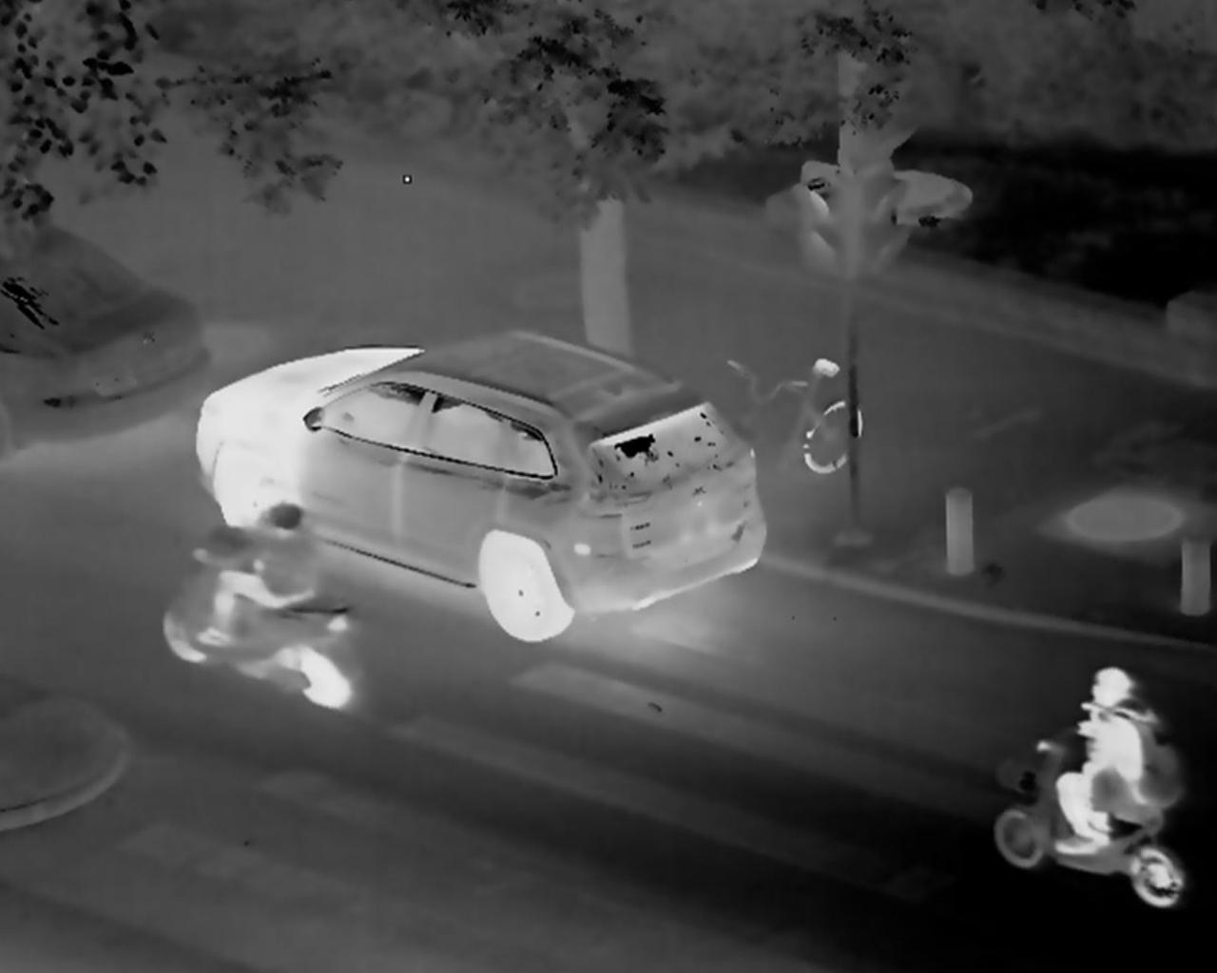person: (1045, 661, 1177, 862), (196, 484, 319, 659)
